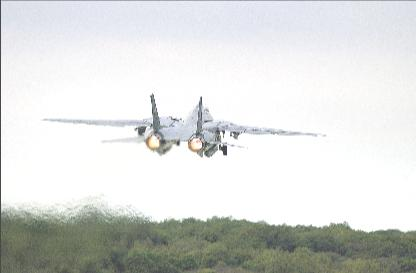EF2000: (38, 93, 328, 157)
